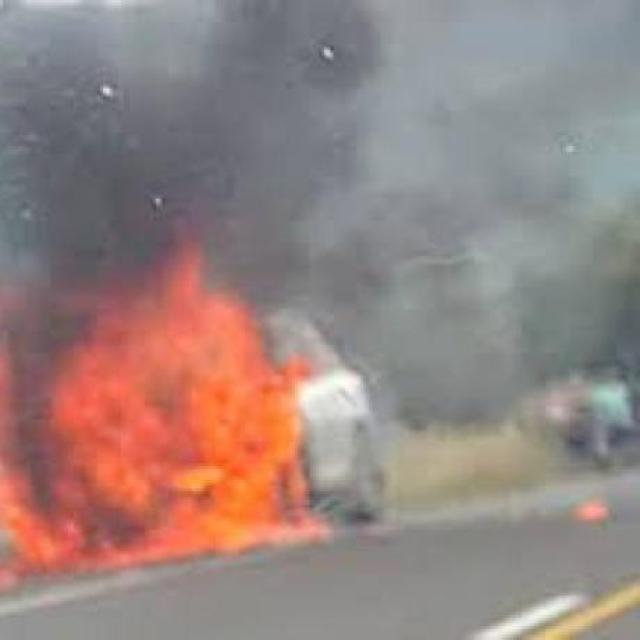Fire: (6, 238, 330, 577)
Smoke: (2, 3, 624, 235), (331, 236, 640, 402)
